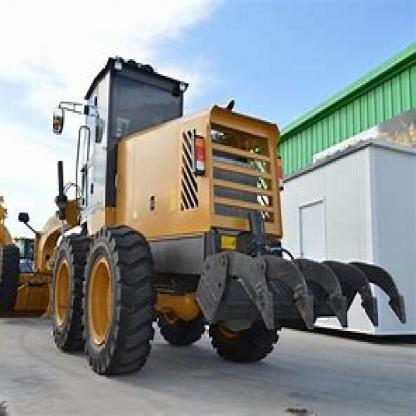bull_dozer/loader/grader: (9, 43, 318, 410)
